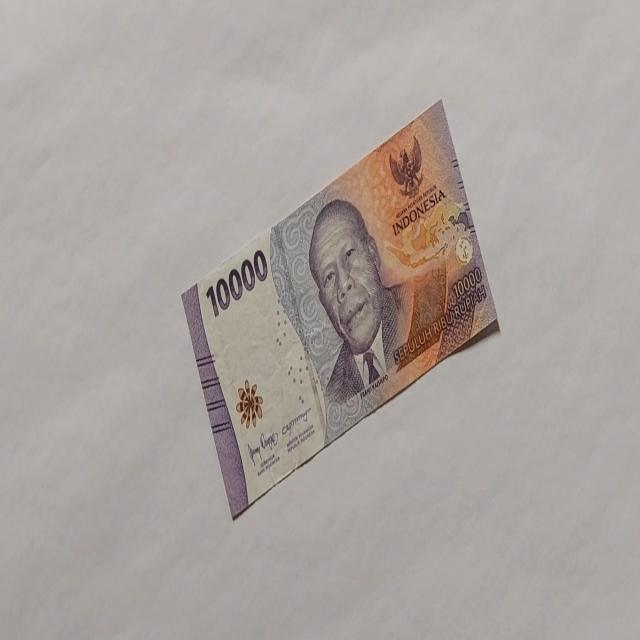sepuluh ribu rupiah: (180, 97, 500, 521), (204, 247, 268, 318)
